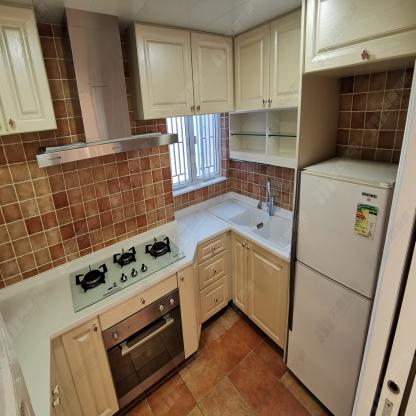Cupboard: (137, 4, 304, 118), (178, 230, 292, 357), (1, 1, 55, 136)
Exhaust Hood: (38, 7, 178, 169)
Faucet: (264, 177, 277, 219)
Fridge: (287, 154, 402, 415)
Oven: (102, 289, 184, 409)
Sink: (210, 196, 293, 247)
Stove: (70, 233, 184, 310)
